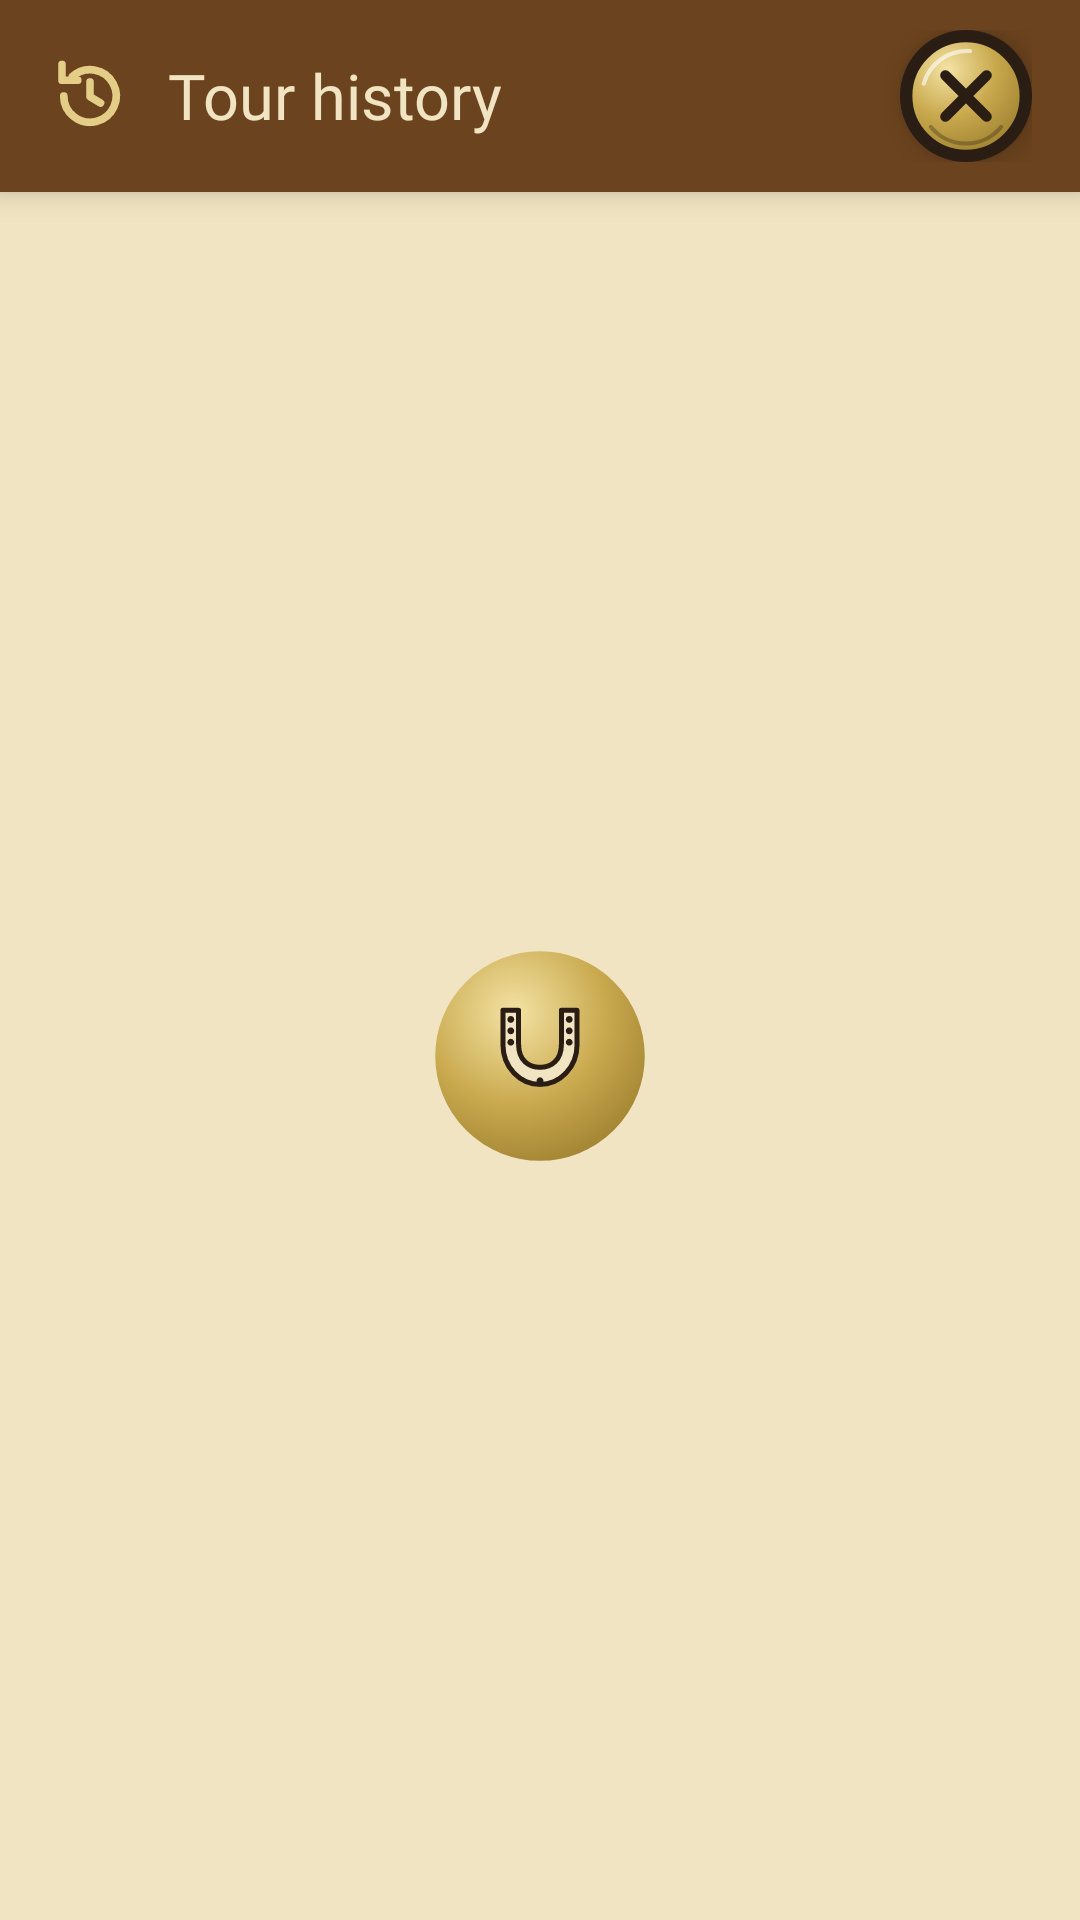

Named icons in this screenshot (1080px x 1920px) and their centers, point (x, y):
Close: point (966, 96)
